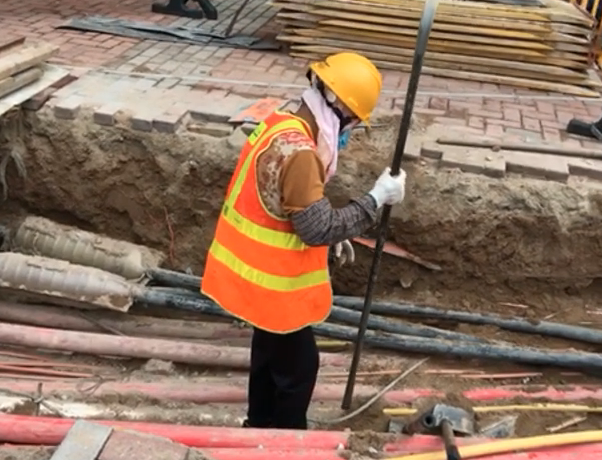Hard Hat: (307, 52, 384, 131)
Person: (204, 51, 383, 426)
Vest: (202, 100, 337, 334)
